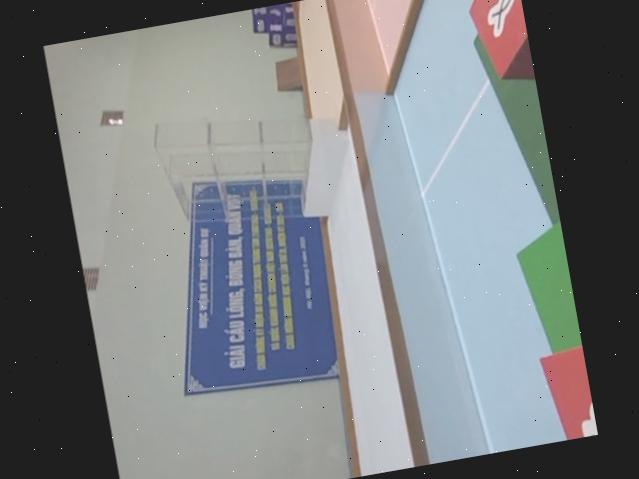R2 Real: (458, 0, 534, 88)
